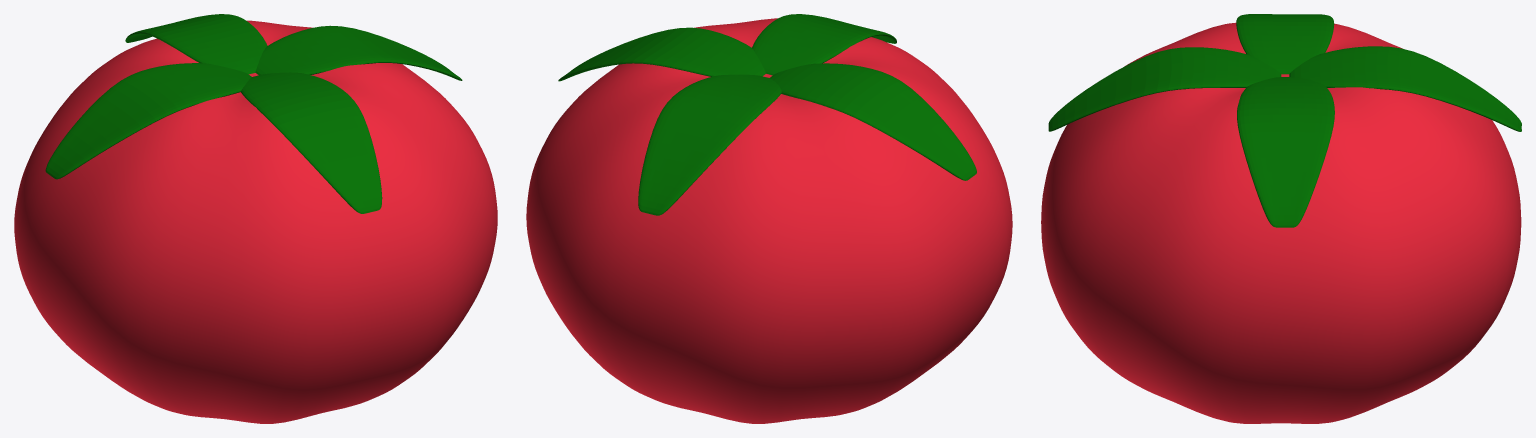
Rendered from tomato.fbx.
3 renders of one model, left to right at view 1: azimuth 30°, elevation 25°; view 2: azimuth 150°, elevation 25°; view 3: azimuth 270°, elevation 25°, orthographic.
Parts seen in each view (by area): view 1: Sphere, Plane.001, Plane.002, Plane.003, Plane; view 2: Sphere, Plane, Plane.002, Plane.003, Plane.001; view 3: Sphere, Plane.003, Plane, Plane.001, Plane.002.
Part boxes in pixels (x1,y1,x2,y2): Sphere: (14, 20, 497, 423); Plane.001: (241, 72, 382, 213); Plane.002: (45, 63, 251, 179); Plane.003: (255, 25, 462, 80); Plane: (125, 14, 267, 74); Sphere: (526, 18, 1012, 423); Plane: (638, 74, 781, 215); Plane.002: (770, 63, 976, 180); Plane.003: (558, 27, 765, 81); Plane.001: (752, 14, 896, 75); Sphere: (1041, 22, 1521, 423); Plane.003: (1237, 77, 1334, 227); Plane: (1289, 46, 1521, 131); Plane.001: (1048, 47, 1281, 131); Plane.002: (1236, 14, 1334, 74).
Size of the model in its own units: 187 by 139 by 187.
